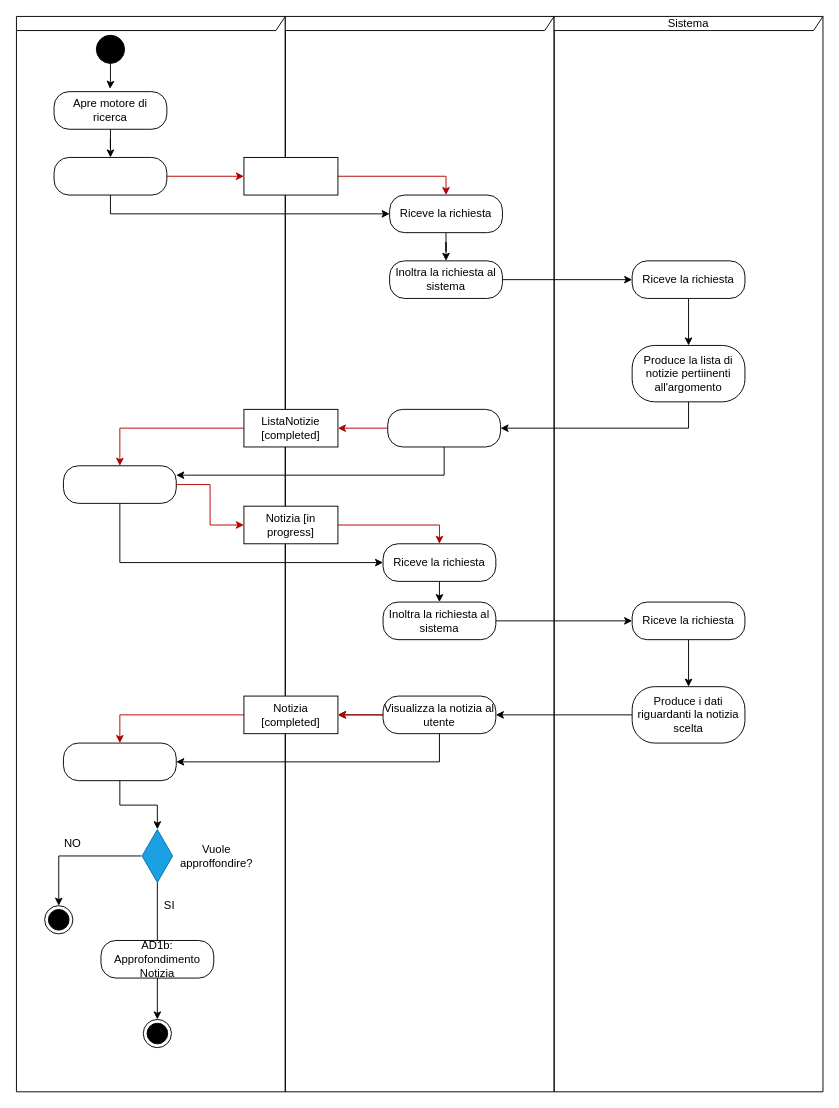
Some shapes in this 839 by 1108 pixel diagram are drawn without their labels. The shapes that lost their labels are listed below. From the top down, each one's box as (x1, y1, x2, y2) in pixels, then its label:
(53, 157, 167, 195): Ricerca notizie di un dato argomento
(243, 157, 338, 195): ListaNotizie [in progress]
(387, 408, 501, 447): Visualizza la lista all'utente
(63, 465, 176, 503): Sceglie la notizia di suo interesse
(16, 16, 285, 1092): Utente
(284, 16, 554, 1092): Browser
(63, 742, 176, 781): Riceve la notizia
